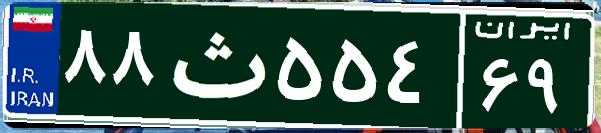4: (385, 28, 445, 110)
5: (273, 28, 330, 110), (330, 28, 385, 110)
6: (475, 38, 525, 113)
8: (57, 26, 110, 107), (110, 28, 158, 105)
9: (525, 38, 570, 115)
ث: (158, 15, 273, 115)
